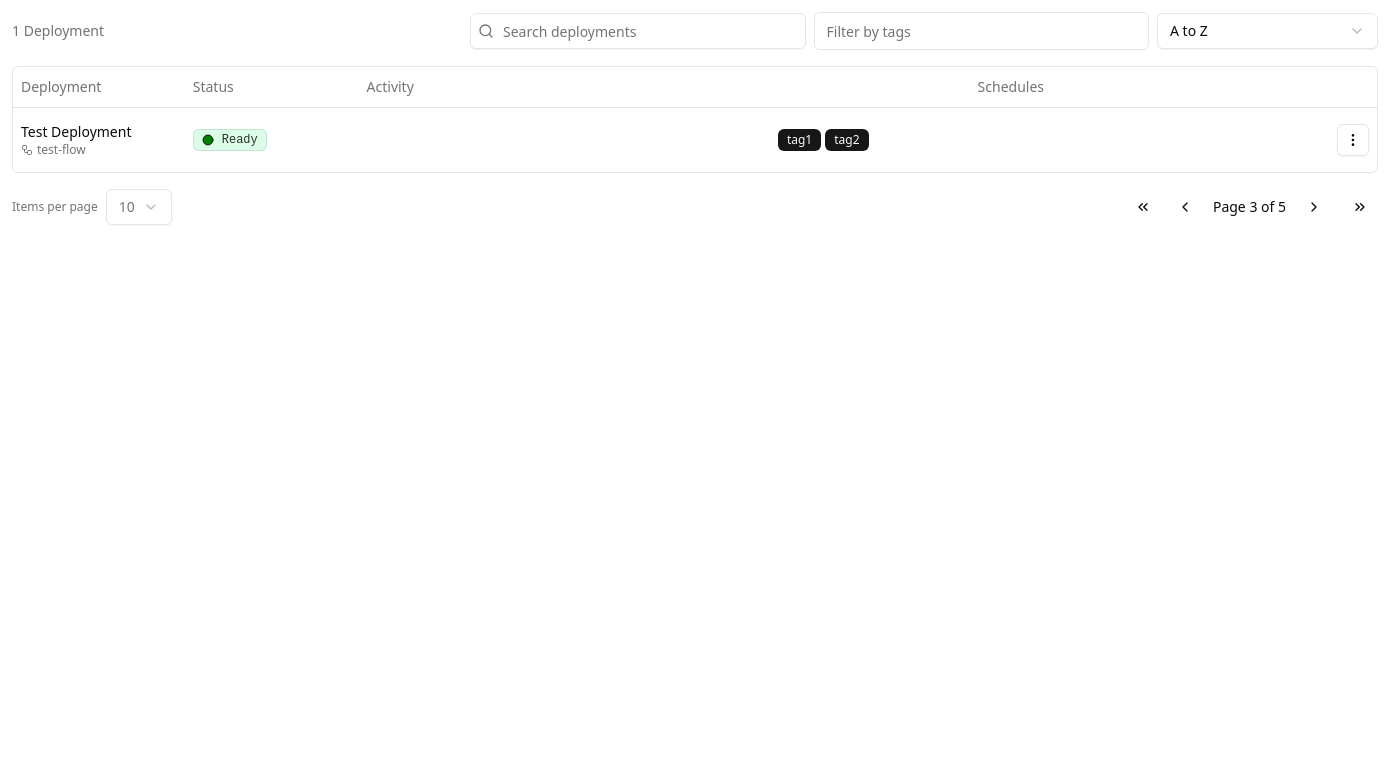
Test: DeploymentsDataTable › has an action menu item that links to create a custom run
Click the button named "Open menu". click: click(1353, 140)
box: top-left (1337, 124), bottom-right (1369, 156)
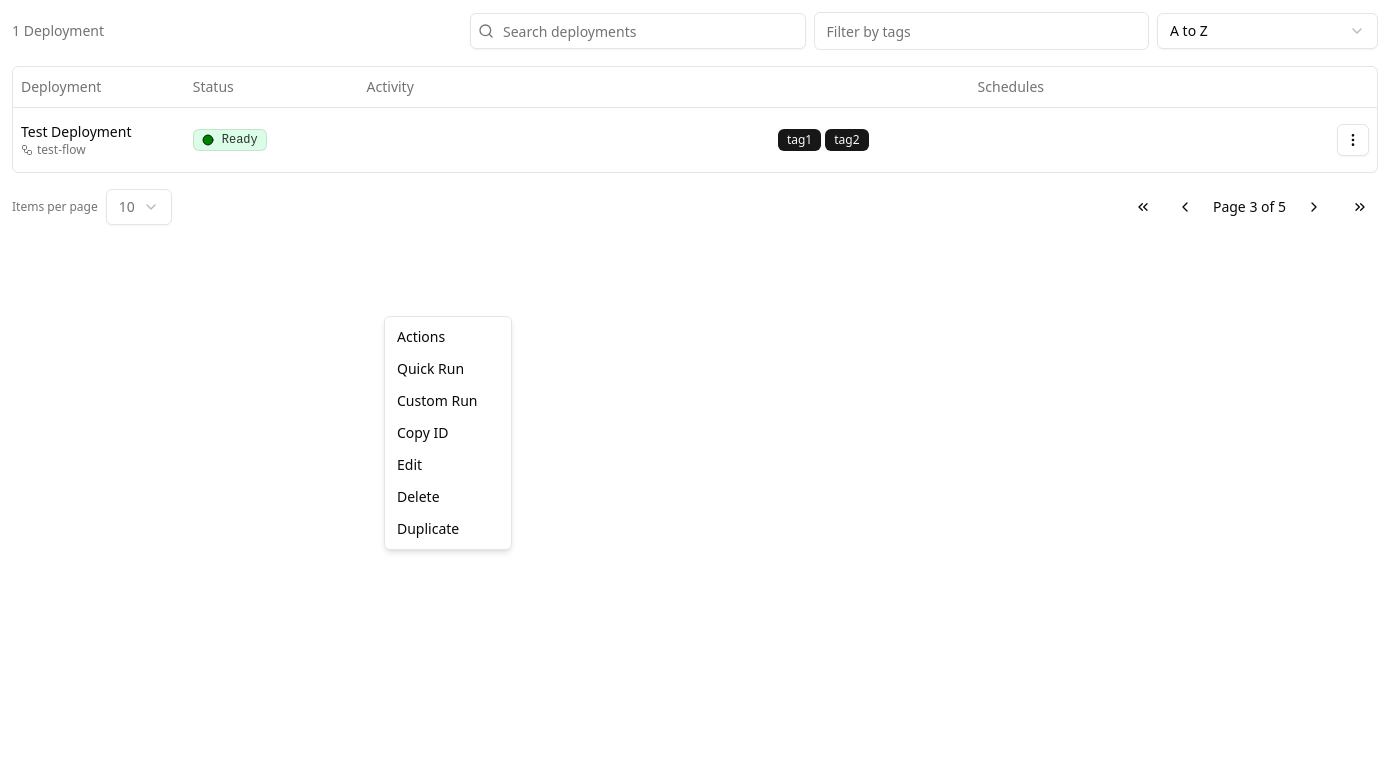
Expected: the menu item "Custom Run" is shown, top-left (397, 391), bottom-right (478, 410)
Expected: the link "Custom Run" is shown, top-left (397, 391), bottom-right (478, 411)
